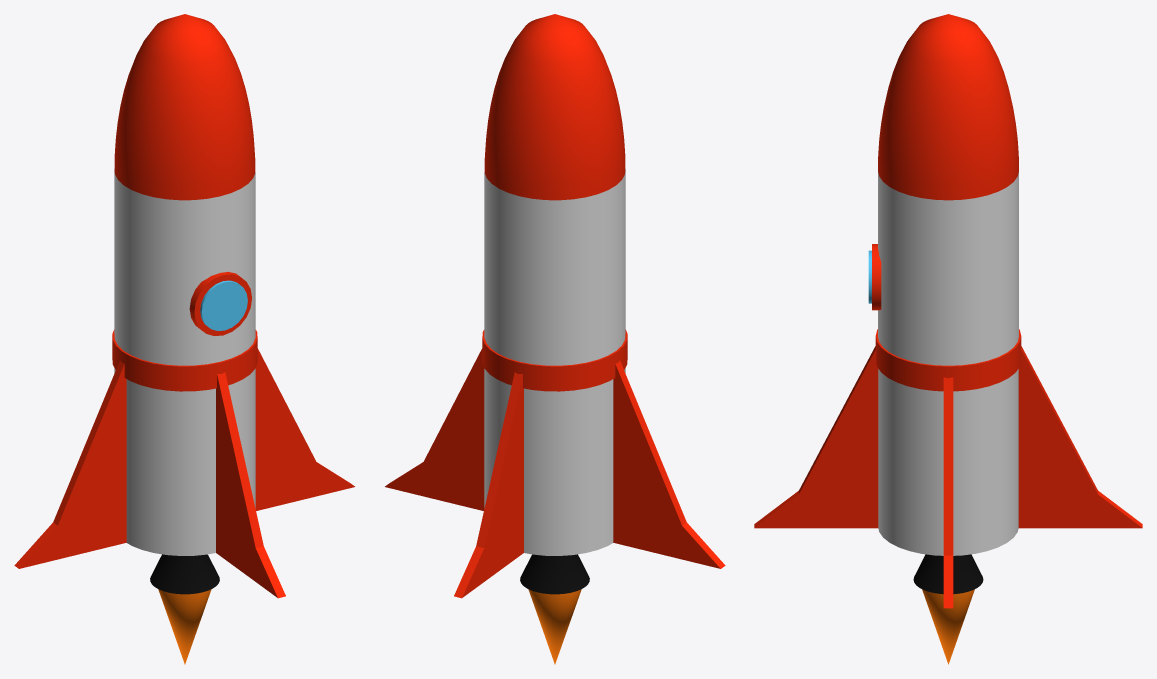
File: Rocket_09_BigFin.obj
3 renders of one model, left to right at view 1: azimuth 30°, elevation 25°; view 2: azimuth 150°, elevation 25°; view 3: azimuth 270°, elevation 25°, orthographic.
Parts seen in each view (by area): view 1: R09_Body, R09_Nose, R09_Fin_2, R09_Fin_4, R09_Fin_3, R09_Band_1, R09_Nozzle_1, R09_Flame_1, R09_Window_1, R09_WindowFrame_1; view 2: R09_Body, R09_Nose, R09_Fin_2, R09_Fin_4, R09_Fin_1, R09_Band_1, R09_Nozzle_1, R09_Flame_1; view 3: R09_Body, R09_Nose, R09_Fin_1, R09_Fin_3, R09_Band_1, R09_Fin_4, R09_Nozzle_1, R09_Flame_1, R09_WindowFrame_1.
Boxes of the visible parts, <box> form: R09_Body: <box>114,169,255,555</box>; R09_Nose: <box>114,14,255,200</box>; R09_Fin_2: <box>14,360,126,568</box>; R09_Fin_4: <box>255,348,354,510</box>; R09_Fin_3: <box>216,372,285,598</box>; R09_Band_1: <box>112,329,257,391</box>; R09_Nozzle_1: <box>150,554,219,594</box>; R09_Flame_1: <box>158,589,211,664</box>; R09_Window_1: <box>200,280,247,330</box>; R09_WindowFrame_1: <box>189,271,251,335</box>; R09_Body: <box>484,169,625,555</box>; R09_Nose: <box>484,14,625,200</box>; R09_Fin_2: <box>613,360,725,568</box>; R09_Fin_4: <box>385,348,484,510</box>; R09_Fin_1: <box>454,372,523,598</box>; R09_Band_1: <box>482,329,627,391</box>; R09_Nozzle_1: <box>520,554,589,594</box>; R09_Flame_1: <box>528,589,581,664</box>; R09_Body: <box>878,172,1018,555</box>; R09_Nose: <box>878,14,1018,200</box>; R09_Fin_1: <box>1018,346,1142,528</box>; R09_Fin_3: <box>754,346,878,528</box>; R09_Band_1: <box>875,329,1021,391</box>; R09_Fin_4: <box>943,377,953,608</box>; R09_Nozzle_1: <box>913,554,983,594</box>; R09_Flame_1: <box>922,589,974,664</box>; R09_WindowFrame_1: <box>872,244,881,310</box>.
Bounding box in the file's own units: 4.95 × 9.15 × 4.95.
